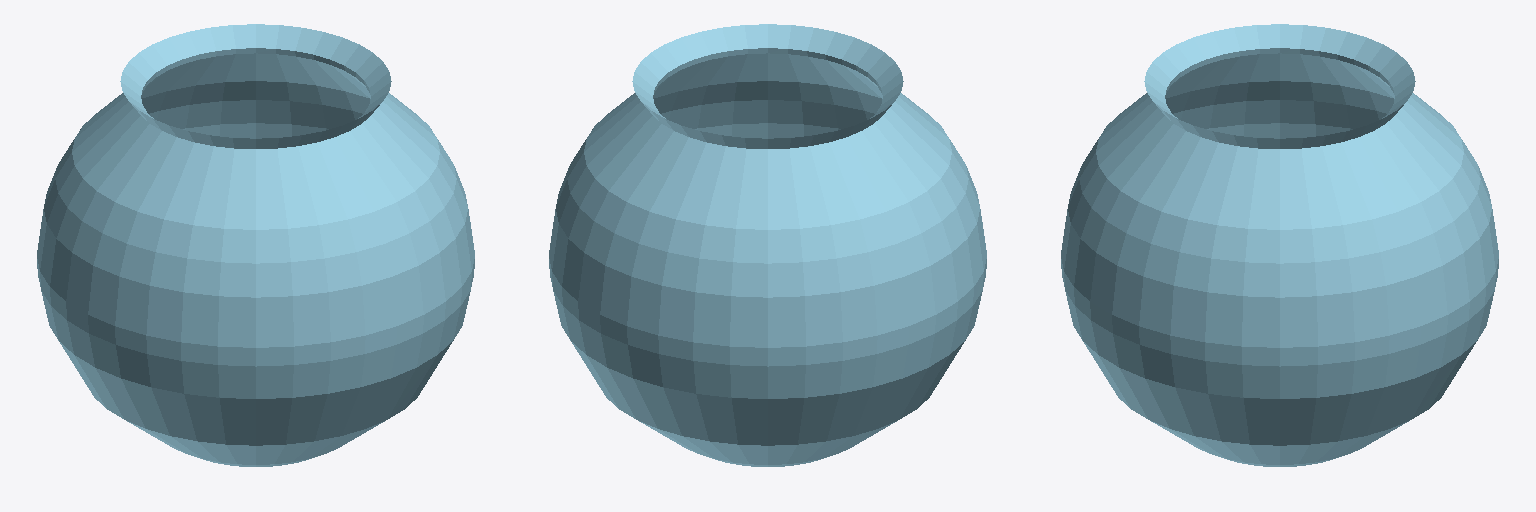
The picture shows the model from 3 angles: view 1: azimuth 30°, elevation 25°; view 2: azimuth 150°, elevation 25°; view 3: azimuth 270°, elevation 25°; orthographic projection.
Parts seen in each view (by area): view 1: pasted__pasted__Pecera_Pecera__fish_bowl_bowl pasted__group9 gro; view 2: pasted__pasted__Pecera_Pecera__fish_bowl_bowl pasted__group9 gro; view 3: pasted__pasted__Pecera_Pecera__fish_bowl_bowl pasted__group9 gro.
Boxes of the visible parts, <box> form: pasted__pasted__Pecera_Pecera__fish_bowl_bowl pasted__group9 gro: <box>37,24,474,466</box>; pasted__pasted__Pecera_Pecera__fish_bowl_bowl pasted__group9 gro: <box>549,24,986,466</box>; pasted__pasted__Pecera_Pecera__fish_bowl_bowl pasted__group9 gro: <box>1061,24,1498,466</box>.
Size of the model in its own units: 0.28 by 0.2459 by 0.28.
Materials: 1 (1 with a texture image).